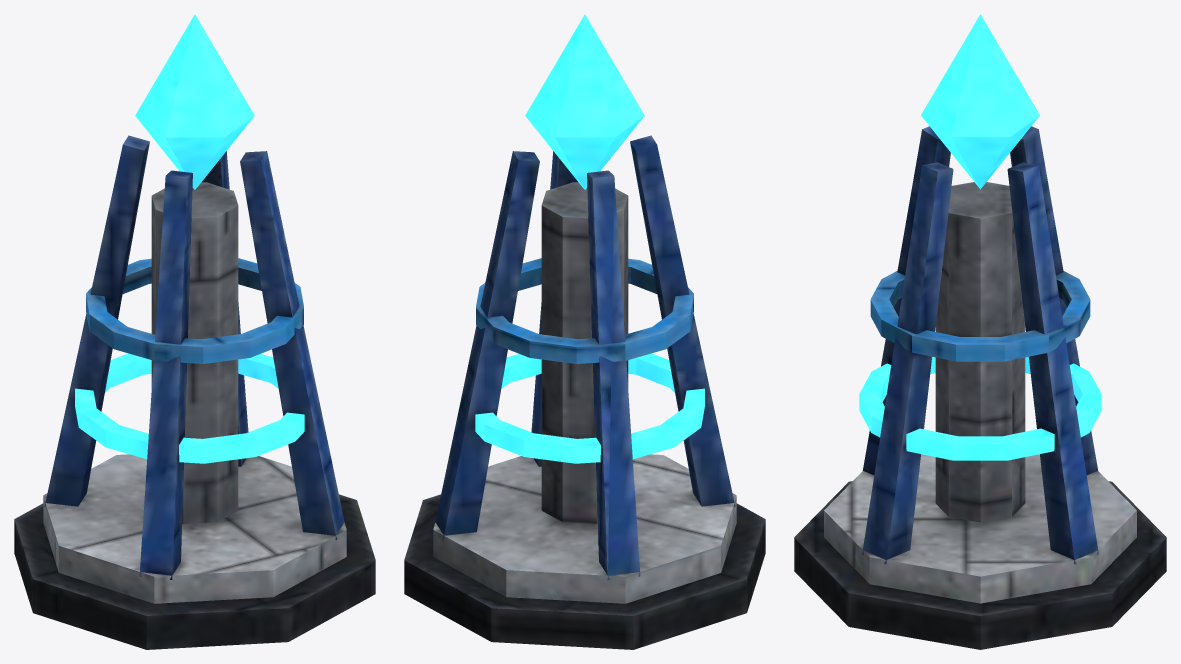
File: u_pulsar1_w.glb
3 renders of one model, left to right at view 1: azimuth 30°, elevation 25°; view 2: azimuth 150°, elevation 25°; view 3: azimuth 270°, elevation 25°, orthographic.
Visible parts, largest first — view 1: u_pulsar1_w; view 2: u_pulsar1_w; view 3: u_pulsar1_w.
Part boxes in pixels (x1,y1,x2,y2): u_pulsar1_w: (14, 14, 375, 649); u_pulsar1_w: (404, 14, 765, 649); u_pulsar1_w: (794, 14, 1166, 649).
Size of the model in its own units: 1 by 1.65 by 1.
Materials: 1 (1 with a texture image).
